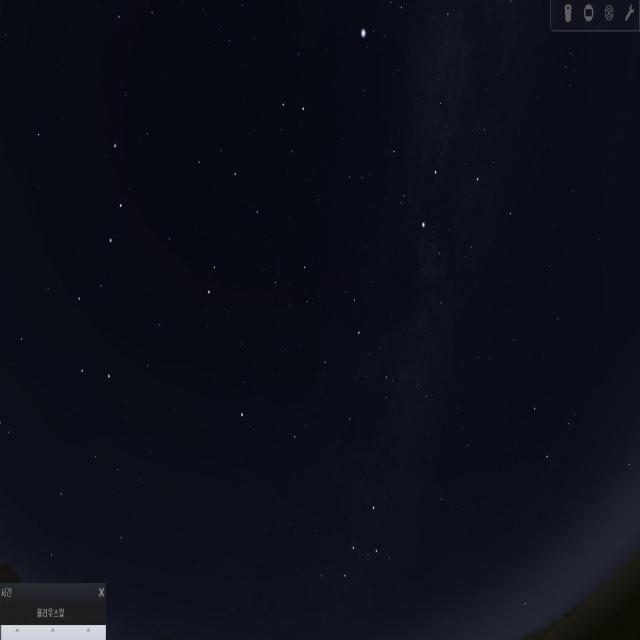cassiopeia: (311, 484, 397, 596)
cygnus: (385, 50, 482, 244)
ursa_major: (60, 134, 154, 412)
